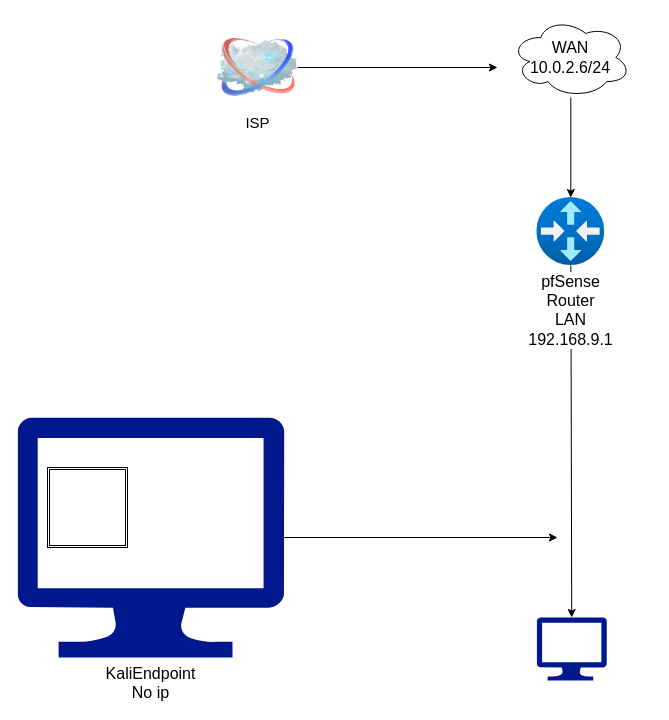
This 669x720 diagram has some shape labels left out. Here are the shapes that lost their labels. From the top down, the centre of each, then its label:
At point 87,507: "WireShark".
At point 571,648: "Kali9 192.168.9.102".
